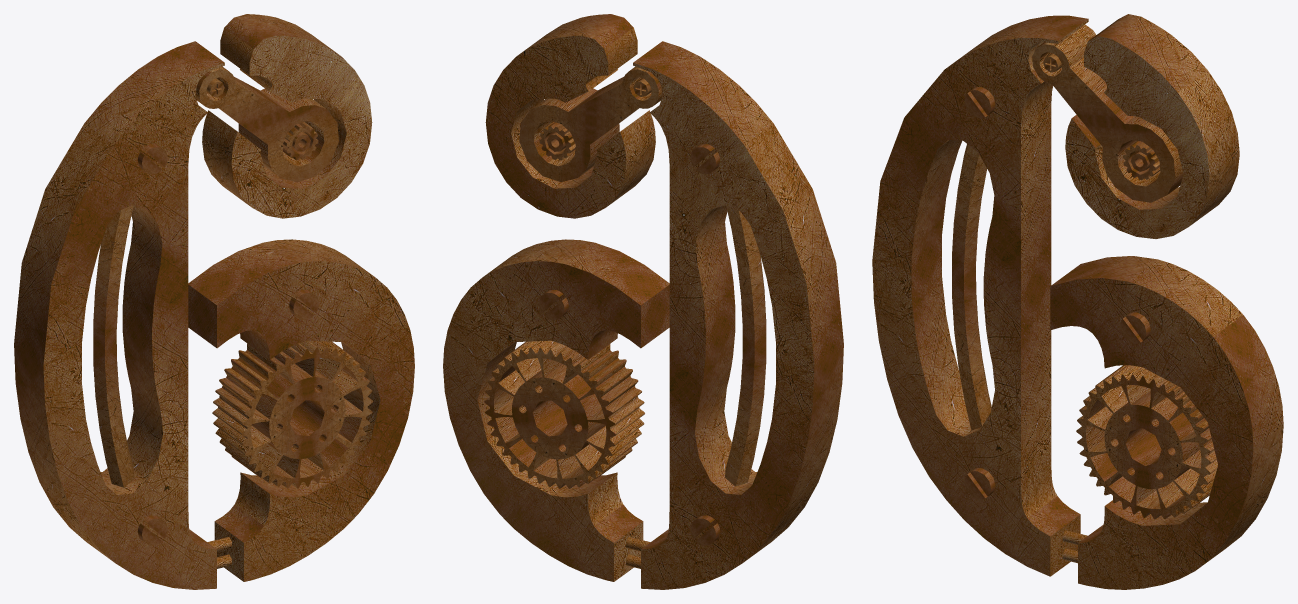
The picture shows the model from 3 angles, left to right: view 1: azimuth 30°, elevation 25°; view 2: azimuth 150°, elevation 25°; view 3: azimuth 330°, elevation 25°; orthographic projection. The views are drawn at different scales.
Visible parts, largest first — view 1: 043, 030, Cogwheel_382, Lever_029, Tube_609, Cogwheel_381, Screw_718, Screw_722, Screw_727; view 2: 043, 030, Cogwheel_382, Lever_029, Tube_609, Cogwheel_381, Screw_718, Screw_722, Screw_727; view 3: 043, 030, Cogwheel_382, Lever_029, Tube_609, Cogwheel_381, Screw_727, Screw_722, Screw_718.
Part boxes in pixels (x1,y1,x2,y2): 043: (14, 41, 414, 589); 030: (202, 14, 372, 218); Cogwheel_382: (212, 340, 373, 488); Lever_029: (195, 66, 338, 182); Tube_609: (93, 205, 134, 487); Cogwheel_381: (282, 122, 318, 160); Screw_718: (137, 515, 167, 545); Screw_722: (137, 144, 167, 173); Screw_727: (289, 290, 318, 319); 043: (443, 41, 843, 589); 030: (485, 14, 655, 218); Cogwheel_382: (484, 340, 644, 488); Lever_029: (519, 66, 662, 181); Tube_609: (725, 205, 766, 486); Cogwheel_381: (539, 122, 575, 160); Screw_718: (690, 515, 720, 545); Screw_722: (690, 144, 720, 173); Screw_727: (539, 290, 568, 319); 043: (872, 15, 1283, 589); 030: (1065, 14, 1239, 238); Cogwheel_382: (1076, 365, 1217, 519); Lever_029: (1032, 24, 1183, 202); Tube_609: (952, 144, 991, 430); Cogwheel_381: (1123, 141, 1160, 180); Screw_727: (1120, 312, 1150, 343); Screw_722: (964, 87, 995, 118); Screw_718: (964, 468, 995, 499).
Size of the model in its own units: 72.76 by 101 by 12.89.
Materials: 1 (1 with a texture image).
